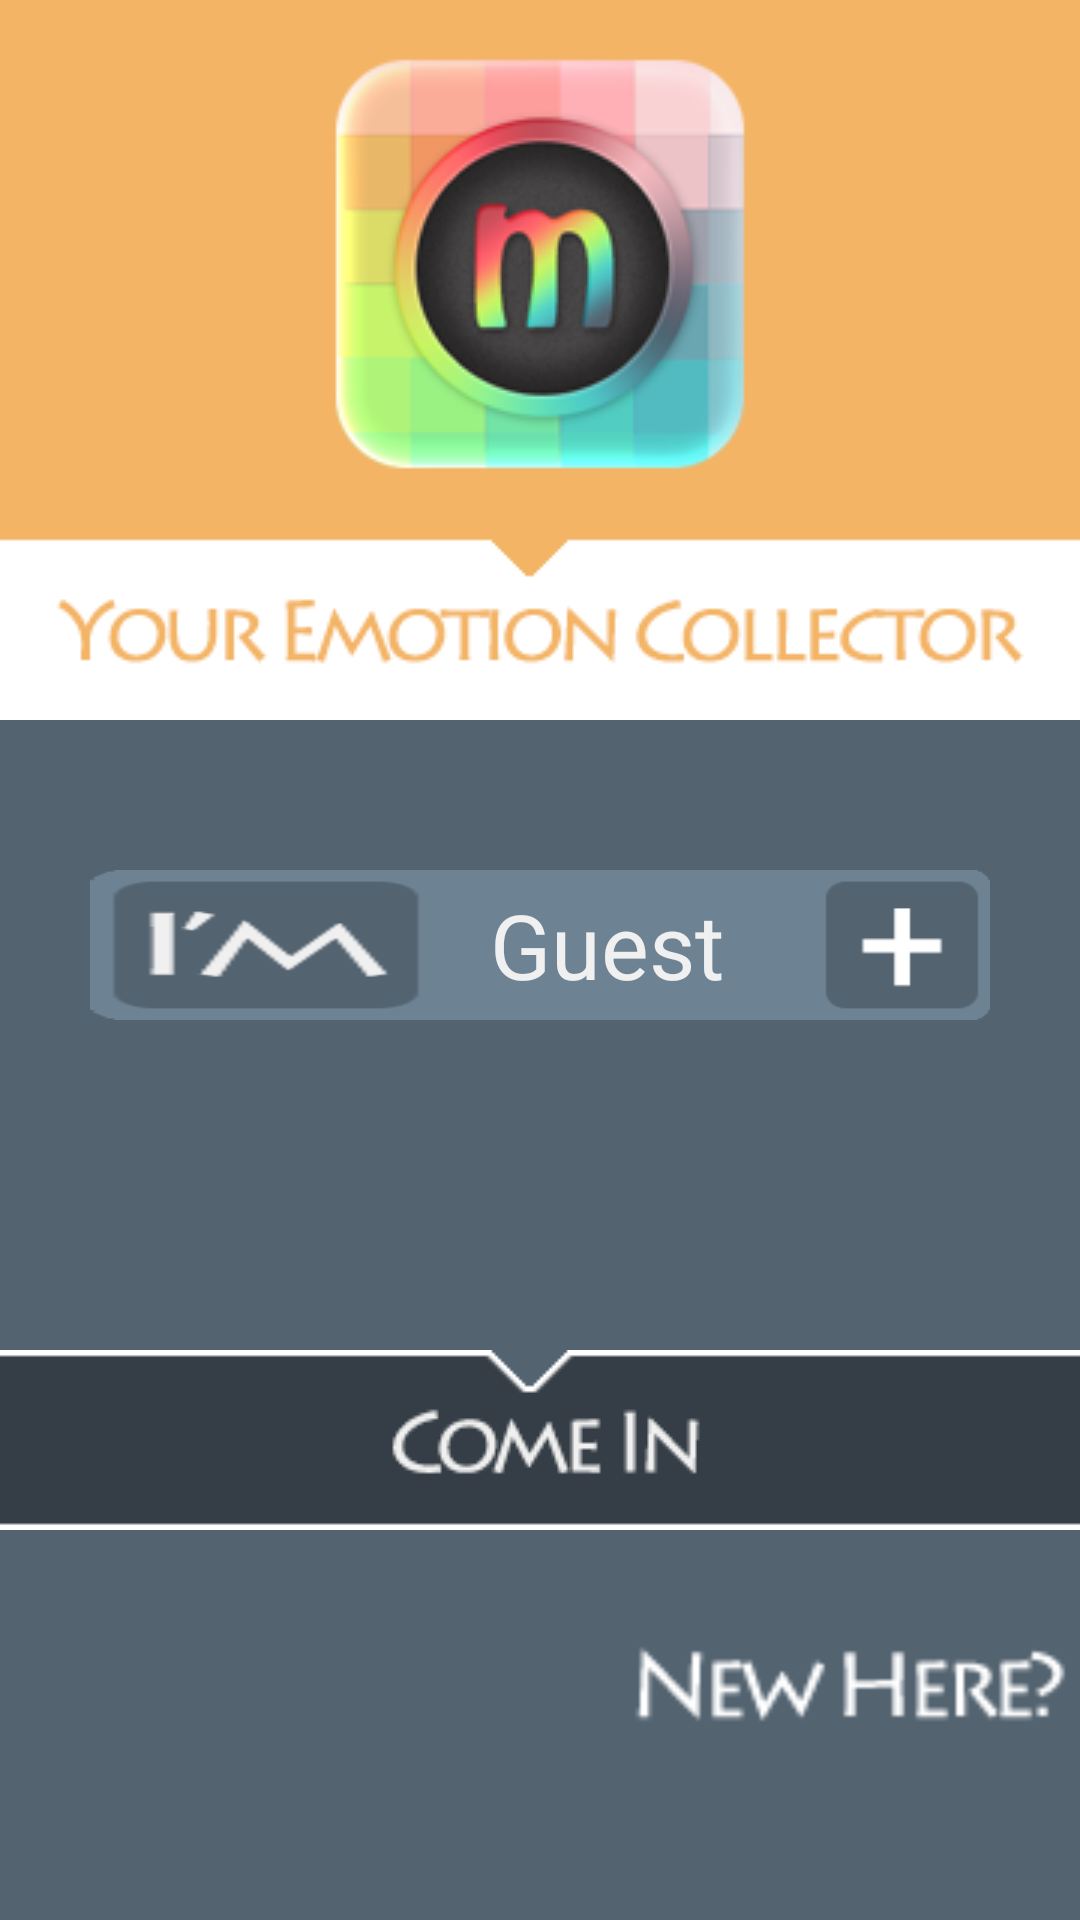

Point at icon controls on the screen. Image size 1080 × 1920, points as (x=x, y=y).
login add: (x=900, y=945)
